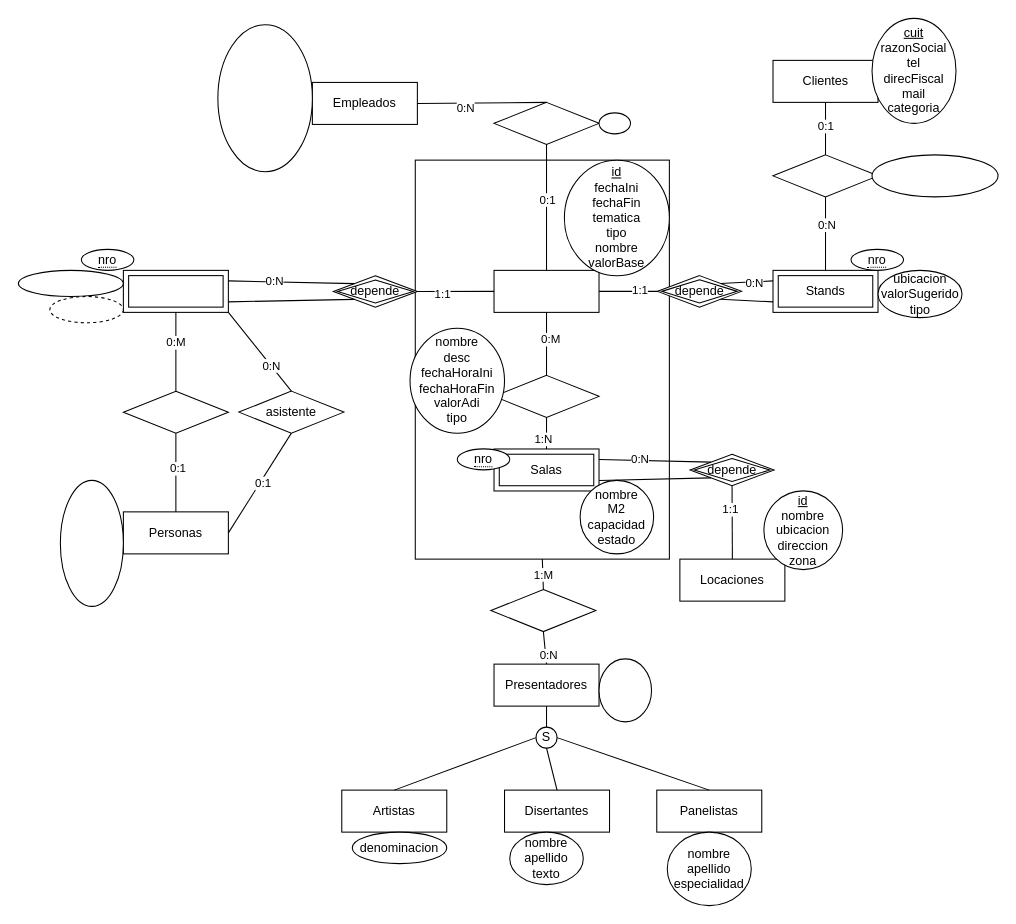
Image size: 1016x924. Some labels were removed from this diagram. Each missing label, with the box of its shape:
alquila: (772, 154, 878, 197)
compran: (122, 390, 228, 433)
cuil nombre apellido tel mail direccion fechaNac categoria: (217, 24, 312, 172)
Entradas: (122, 269, 228, 312)
Eventos: (493, 269, 599, 312)
fechaHoraVenta: (17, 269, 123, 297)
id cuit tel mail: (598, 658, 652, 722)
idUnico nombre apellido tipoDoc nroDoc mail tel: (59, 479, 123, 606)
presentacion: (493, 374, 599, 417)
realizan: (490, 589, 596, 632)
rol: (598, 112, 631, 134)
se_asigna: (493, 101, 599, 144)
valorAcordado fechaContratado: (871, 154, 998, 197)
valorTotal: (49, 295, 123, 323)
